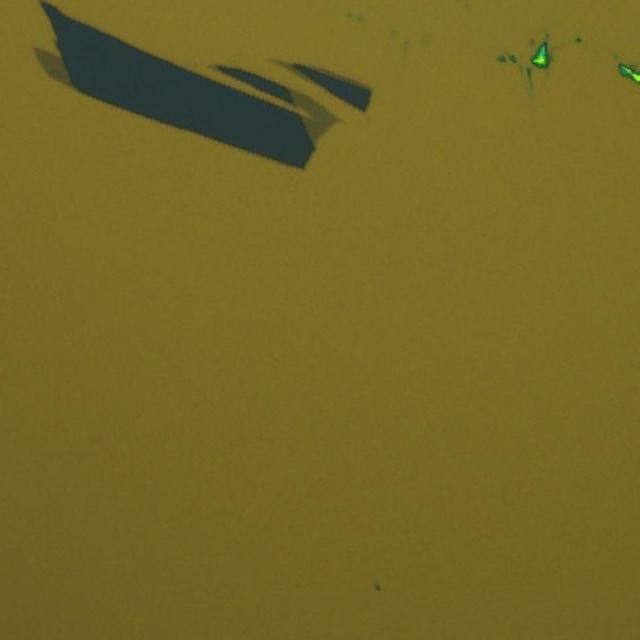monolayer-eWW4: (288, 88, 344, 148), (31, 44, 69, 86)
